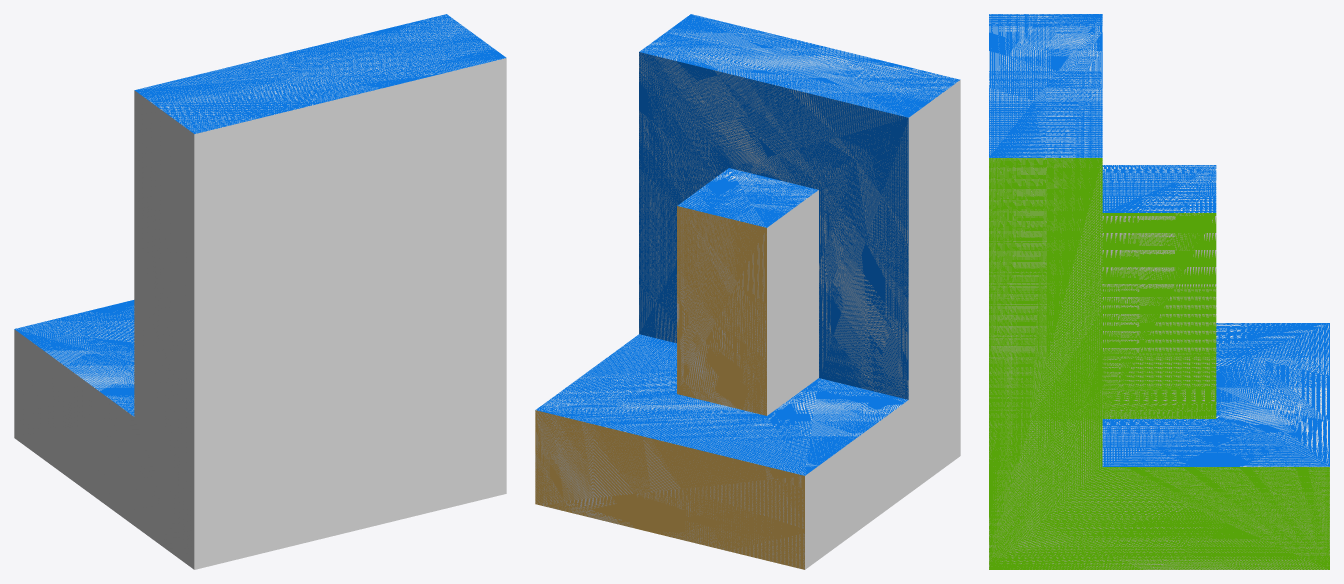
3 views of the same model, side by side, from view 1: azimuth 30°, elevation 25°; view 2: azimuth 150°, elevation 25°; view 3: azimuth 270°, elevation 25° (orthographic). The views are drawn at different scales.
Visible parts, largest first — view 1: SketchUp (×2); view 2: SketchUp (×5); view 3: SketchUp (×3).
Part boxes in pixels (x1=…): SketchUp (×2): x1=14, y1=14, x2=506, y2=569; SketchUp (×5): x1=535, y1=14, x2=960, y2=569; SketchUp (×3): x1=989, y1=14, x2=1329, y2=569.
Size of the model in its own units: 2.36 by 2.36 by 3.15.
